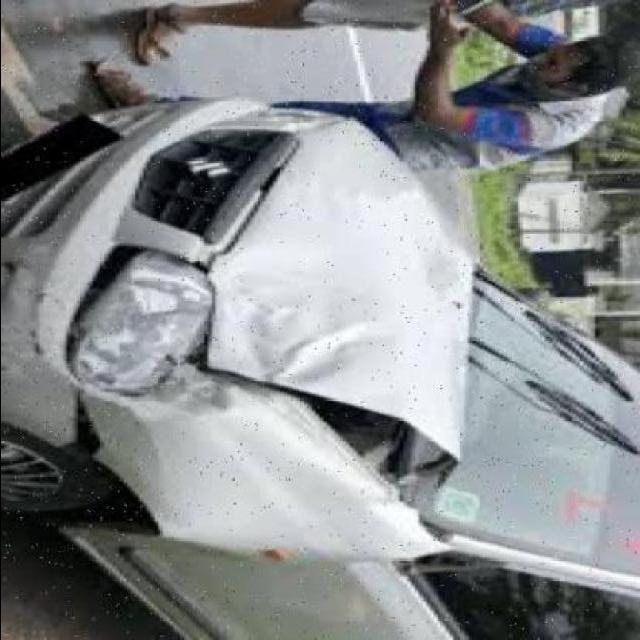Headlight-Damage: (61, 243, 218, 399)
bonnet-dent: (228, 125, 469, 447)
fender-dent: (76, 380, 337, 548)
front-bumper-dent: (3, 102, 95, 405)
